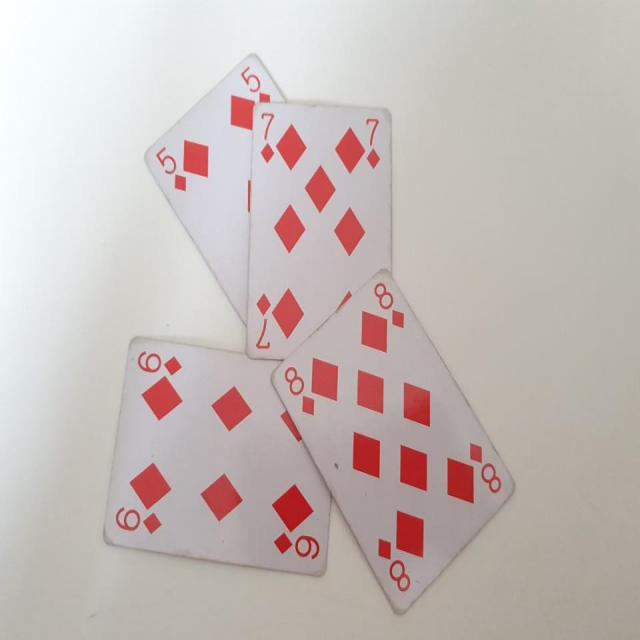5 Diamonds: (140, 43, 297, 324)
6 Diamonds: (101, 336, 326, 591)
7 Diamonds: (246, 103, 394, 360)
8 Diamonds: (267, 266, 519, 618)
